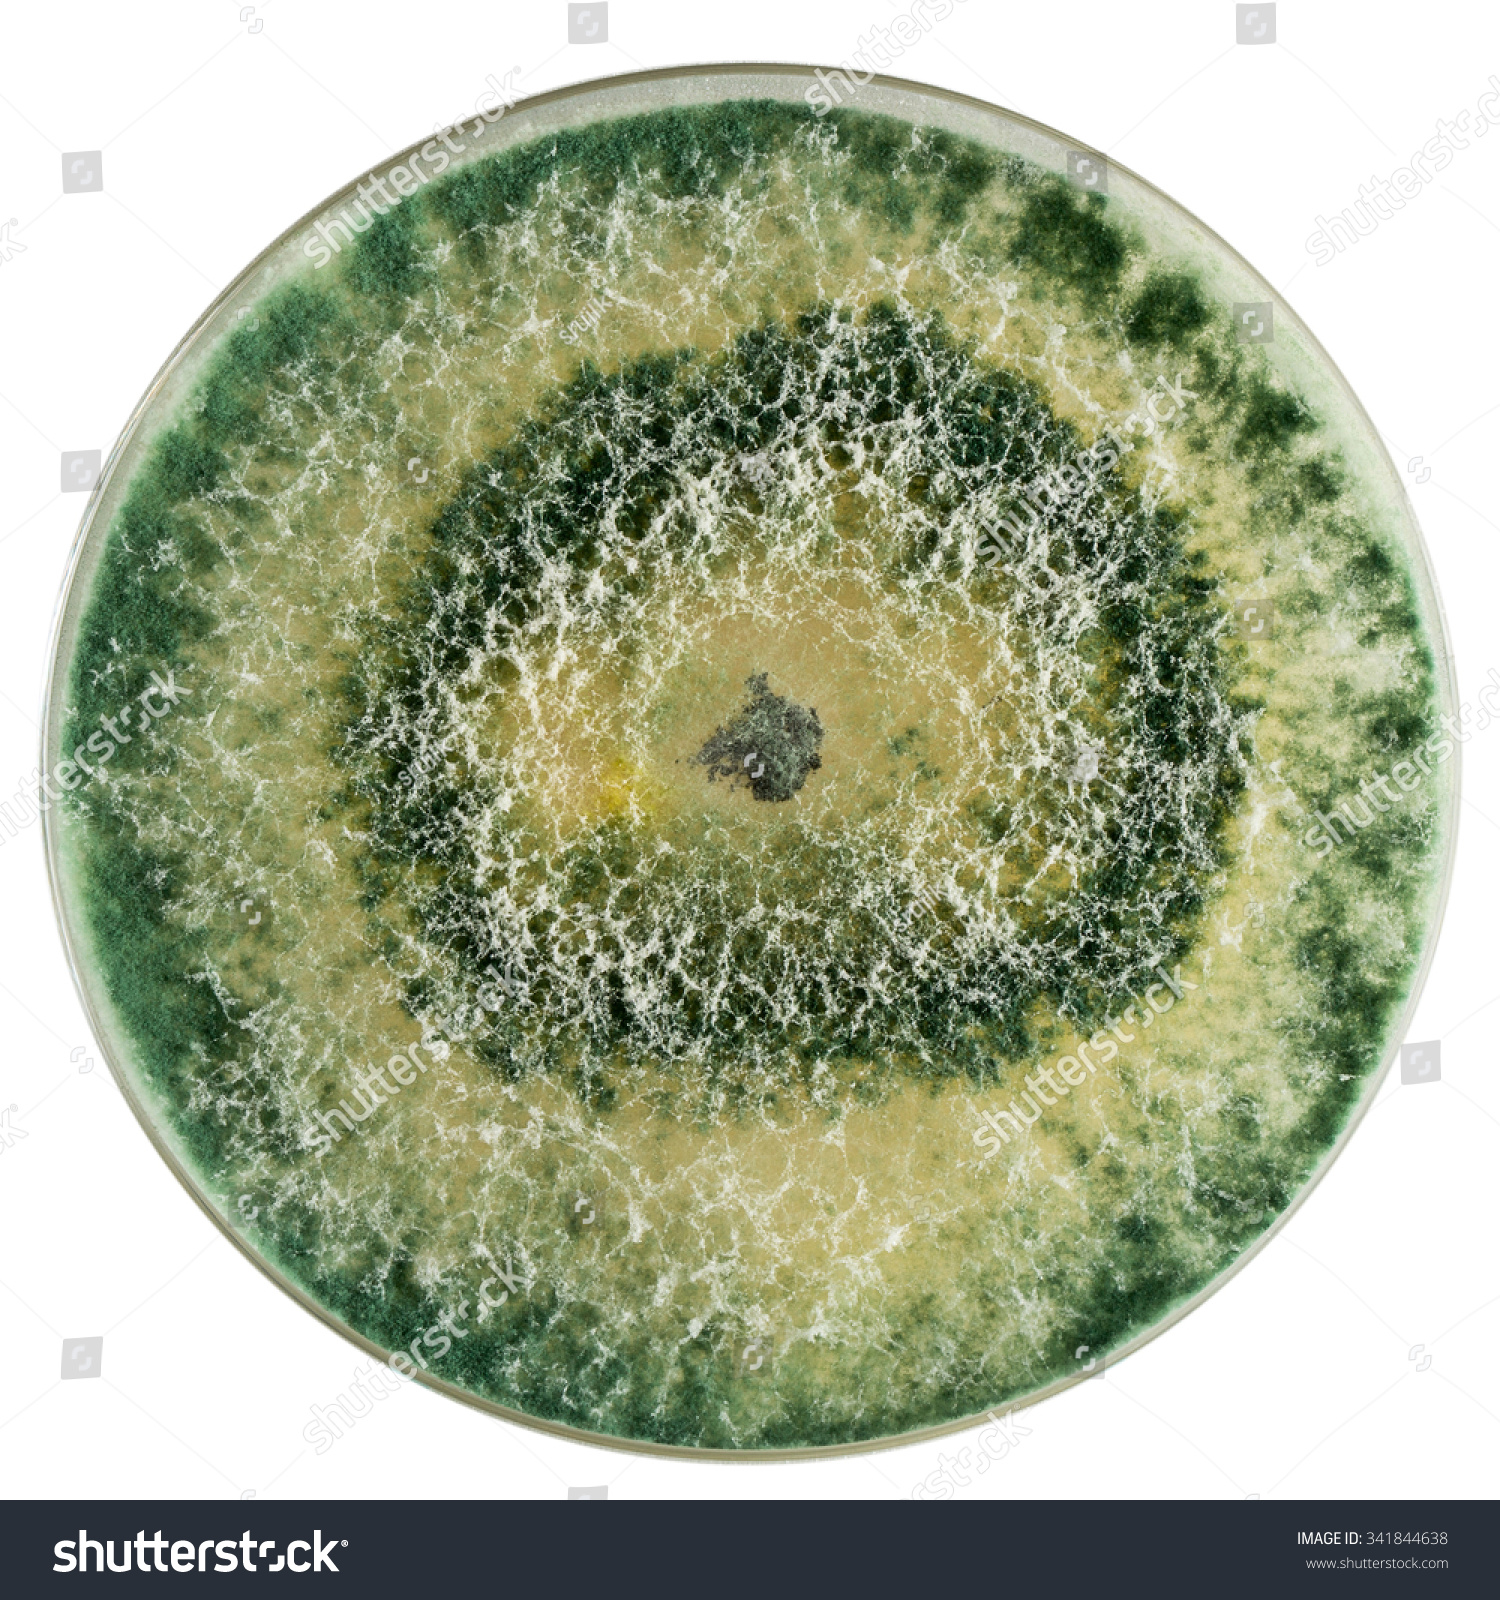Trichoderma: (226, 314, 1334, 1124), (596, 1159, 970, 1408), (76, 825, 220, 1042)
